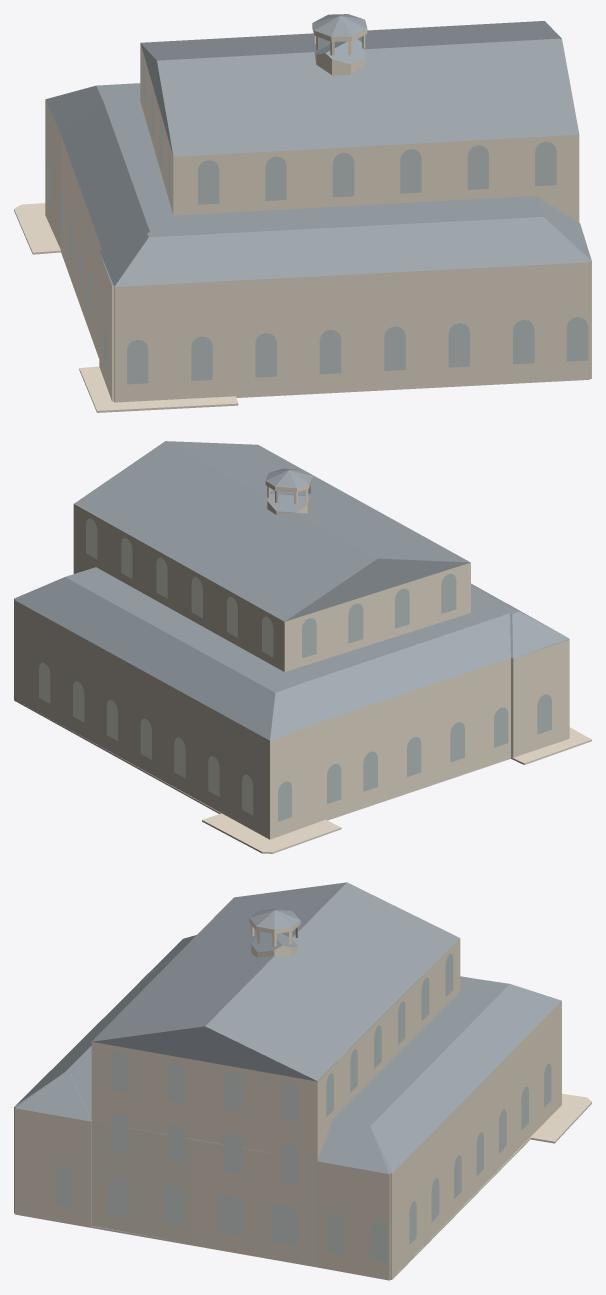
3 views of the same model, one above another, from view 1: azimuth 30°, elevation 25°; view 2: azimuth 150°, elevation 25°; view 3: azimuth 270°, elevation 25° (orthographic). The views are drawn at different scales.
Parts seen in each view (by area): view 1: roof, stone, window; view 2: roof, stone, window; view 3: stone, roof, window.
Part boxes in pixels (box(x1,y1,x2,y2)): roof: box(45, 14, 591, 286); stone: box(14, 24, 591, 412); window: box(47, 62, 588, 384); roof: box(14, 441, 569, 740); stone: box(14, 477, 591, 853); window: box(39, 518, 551, 821); stone: box(14, 918, 591, 1280); roof: box(14, 882, 561, 1174); window: box(55, 953, 551, 1262).
Bounding box in the file's own units: 59.38 × 29 × 59.15.
